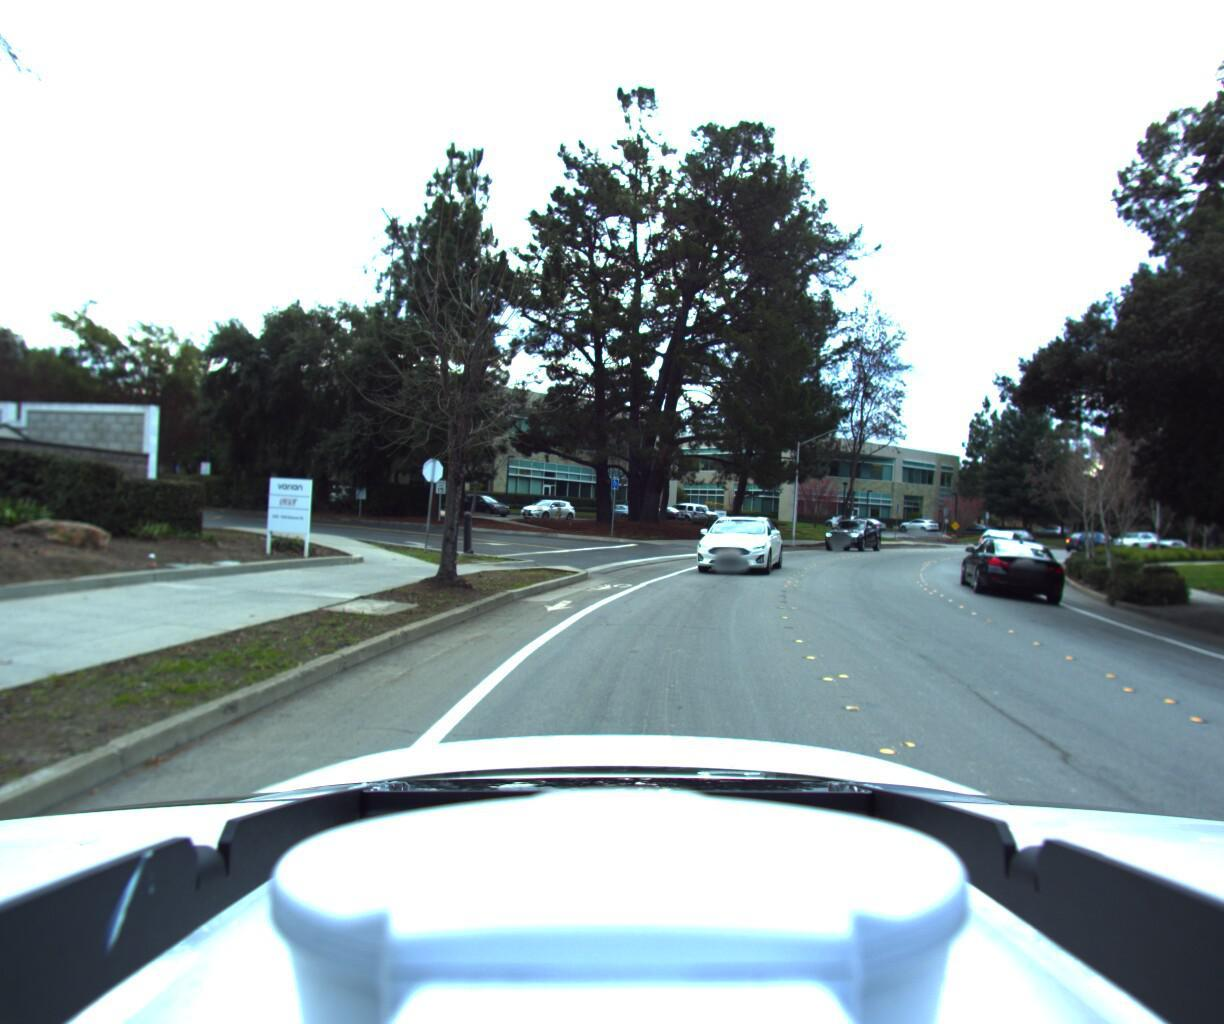car: (958, 529, 1062, 598), (680, 508, 781, 578), (816, 513, 882, 549), (977, 526, 1039, 560), (1104, 521, 1158, 546)
